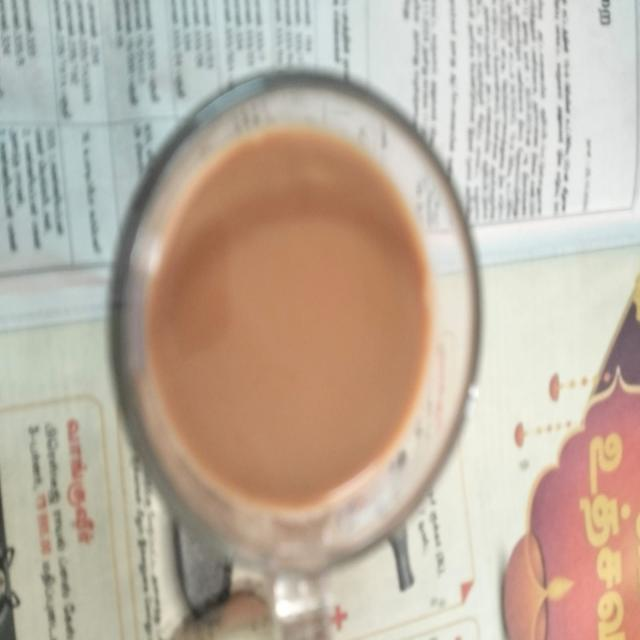glass-VX4N: (98, 53, 489, 640)
